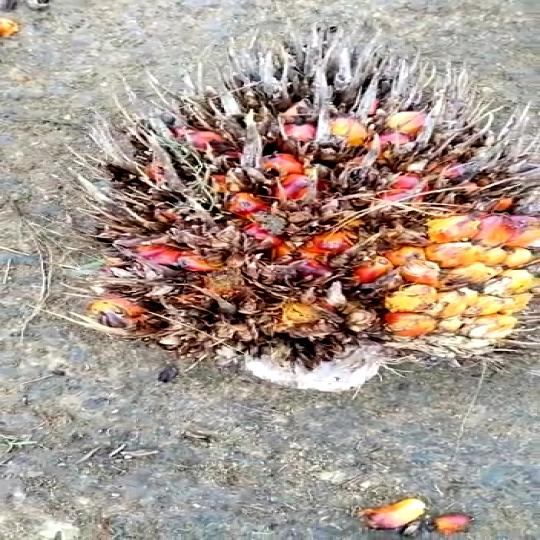terlalu masak: (84, 31, 540, 391)
